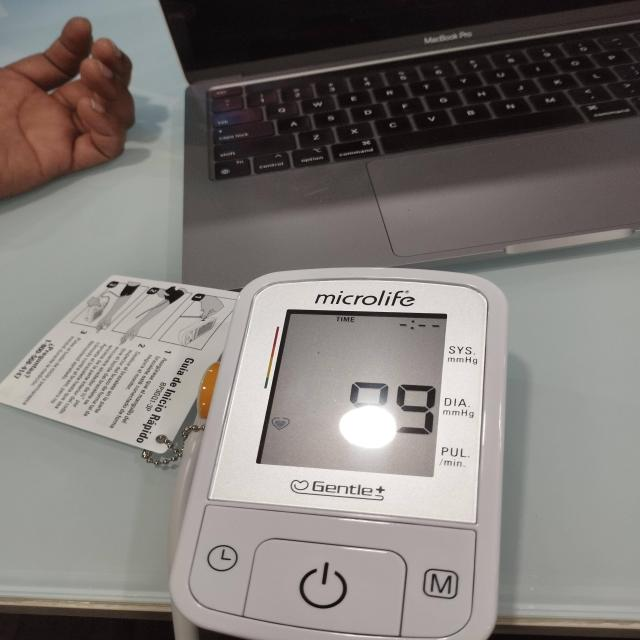bp: (169, 270, 508, 640)
